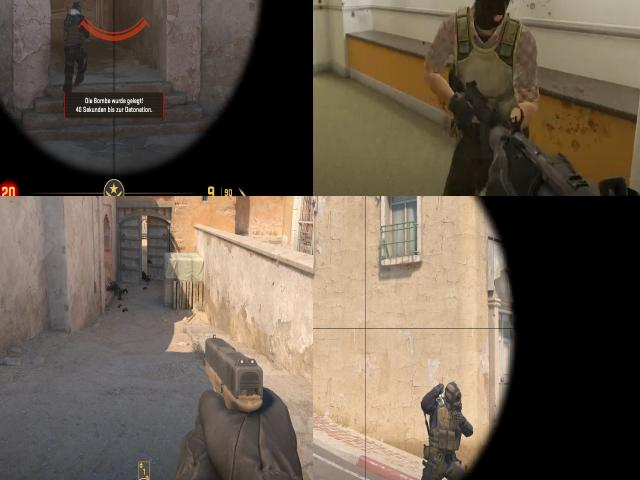CT: (418, 383, 464, 480), (63, 1, 86, 86)
CT-Head: (444, 384, 461, 406), (71, 1, 83, 13)
Dead: (101, 279, 131, 300), (140, 269, 150, 286)
T: (426, 2, 554, 143)
T-Head: (462, 0, 518, 34)
